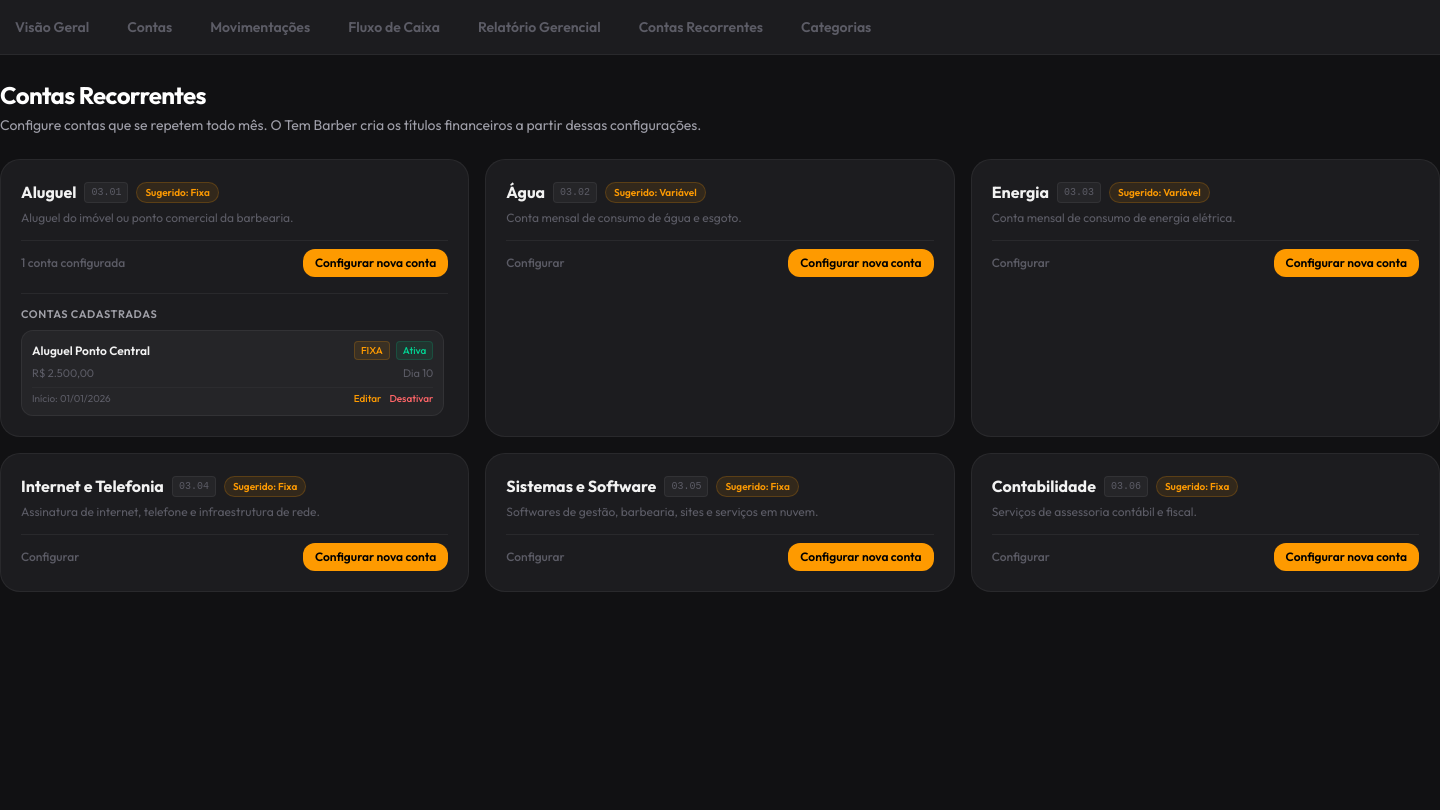
it: ConfiguracoesFinanceirasPage — UX-C Suite › 16. exige valor > 0 para o modo FIXED
This screenshot has width=1440, height=810.
Expected: the heading "Aluguel" is shown, [21,180,76,204]
Click the button "Configurar nova conta" in the row of "1 conta configurada".
click(376, 262)  # box [303,248,448,276]
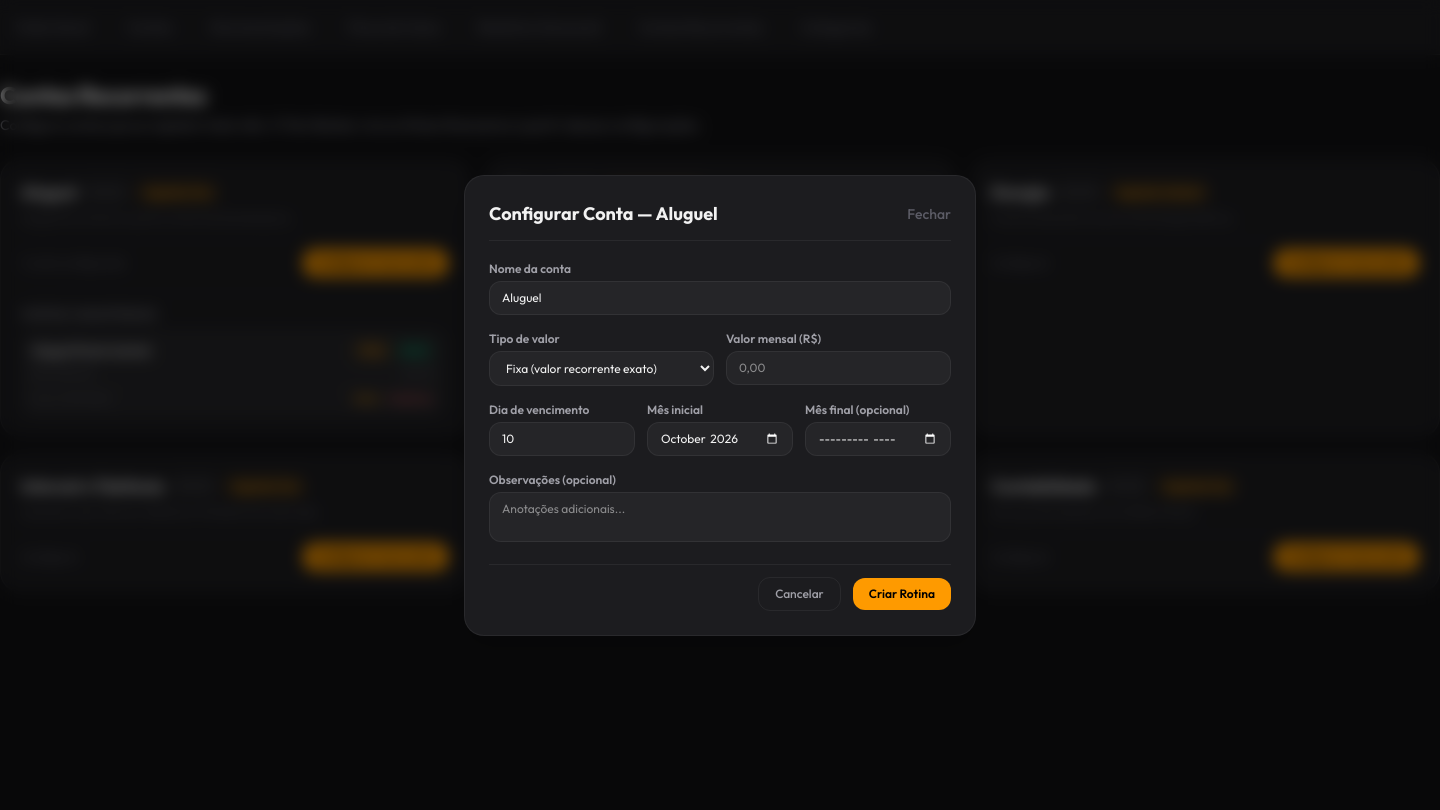
Now the heading "Configurar Conta — Aluguel" is shown, box [489,200,718,228]
Type "0" into the number field with placeholder "0,00".
click(838, 368); type("0")  # box [726,350,951,384]
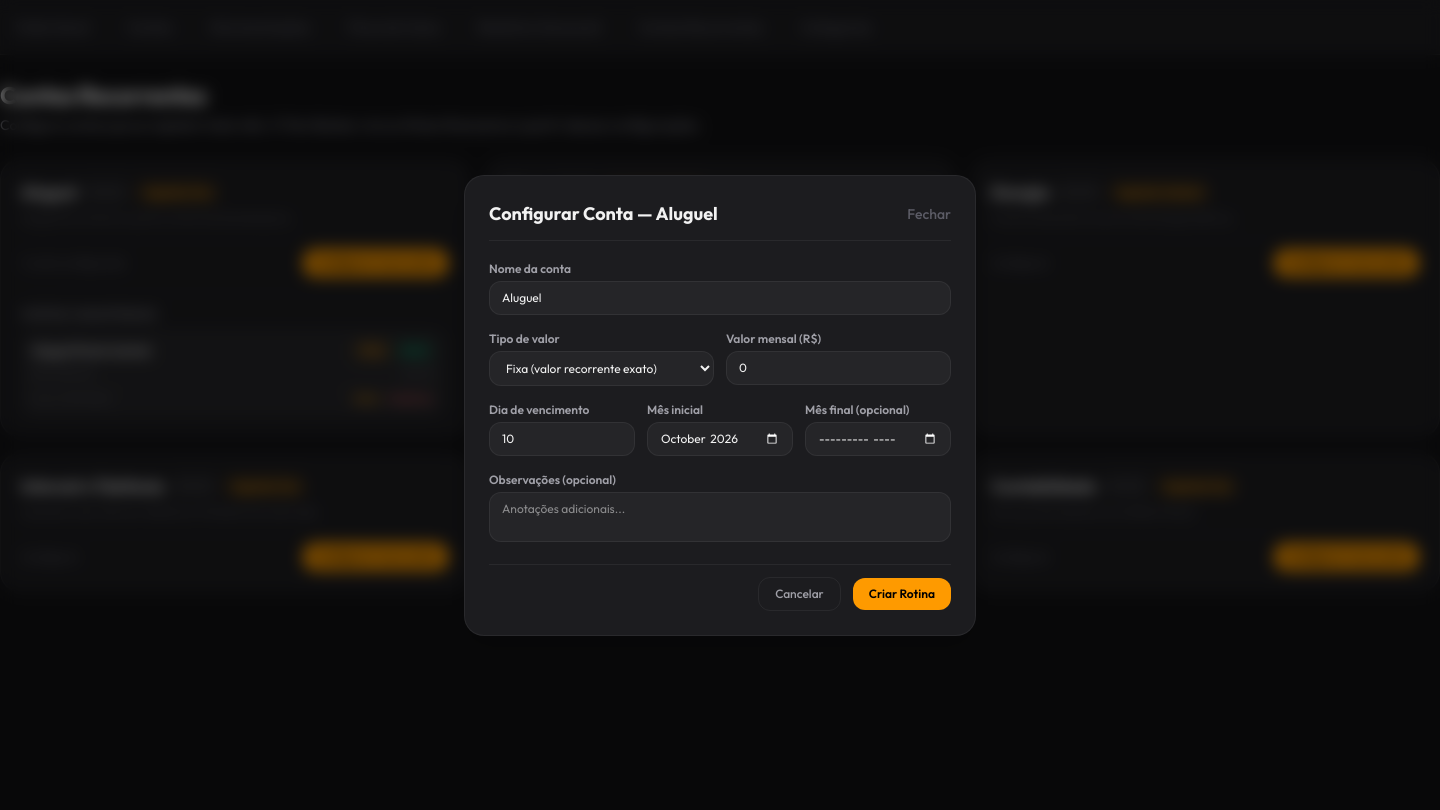
Click the button "Criar Rotina".
click(902, 594)  # box [853,578,951,610]
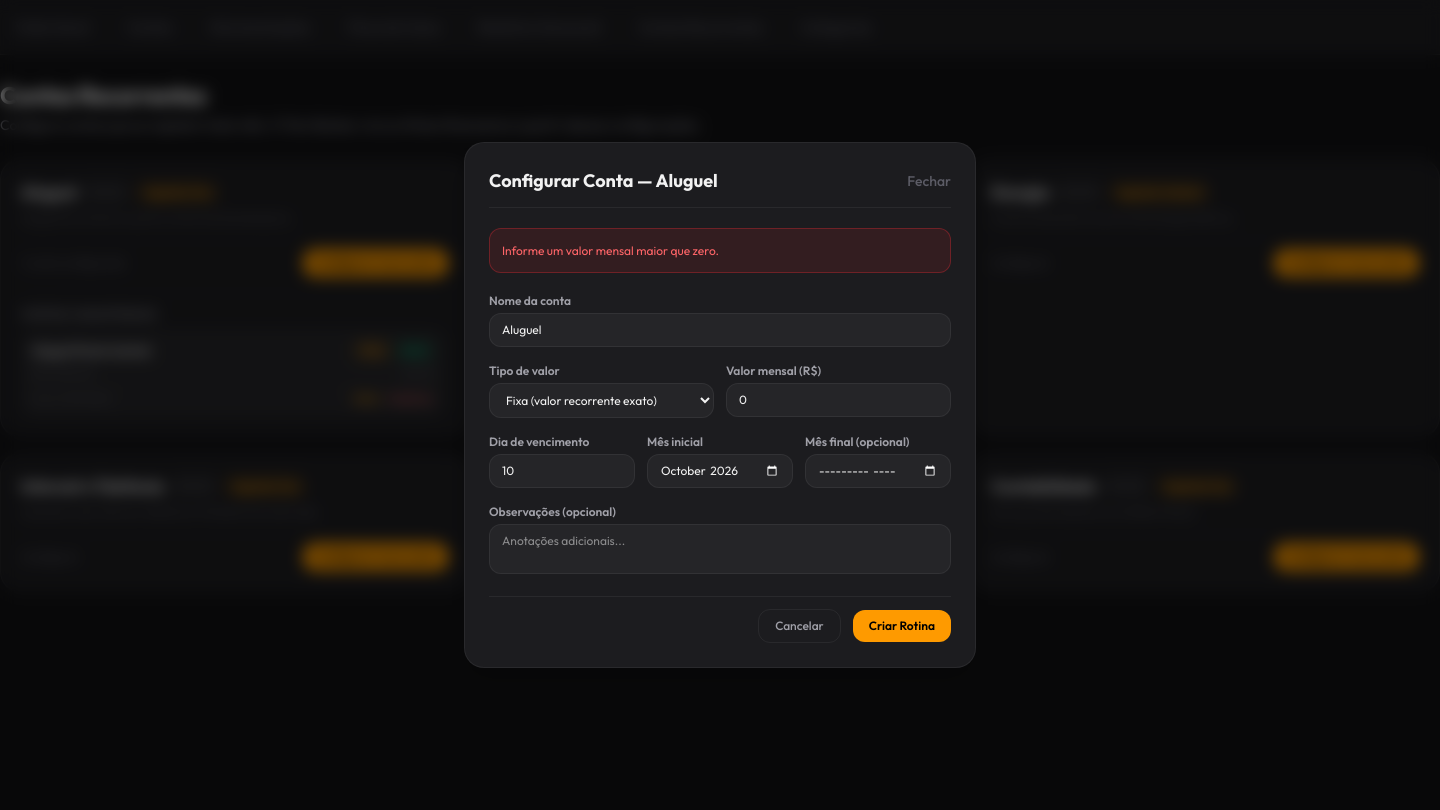
Now the text "Informe um valor mensal maior que zero." is shown, box [489,228,951,273]
